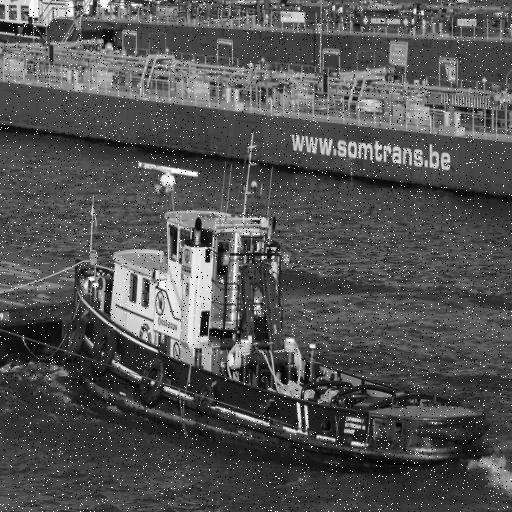tugboat: (78, 199, 496, 484)
